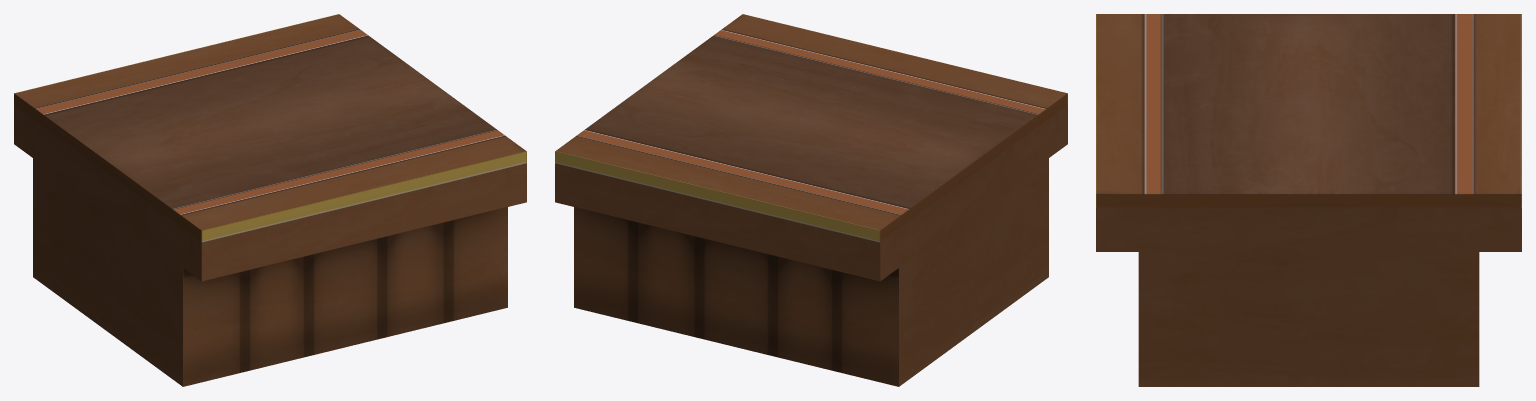
The model's file is Service Counter Table_HD.fbx.
The picture shows the model from 3 angles, left to right: view 1: azimuth 30°, elevation 25°; view 2: azimuth 150°, elevation 25°; view 3: azimuth 270°, elevation 25°; orthographic projection. The views are drawn at different scales.
Parts seen in each view (by area): view 1: Service_Counter_Table_center; view 2: Service_Counter_Table_center; view 3: Service_Counter_Table_center.
Part boxes in pixels (left/top/right/bottom): Service_Counter_Table_center: left=14, top=14, right=526, bottom=386; Service_Counter_Table_center: left=555, top=14, right=1067, bottom=386; Service_Counter_Table_center: left=1096, top=14, right=1521, bottom=386.
Bounding box in the file's own units: 1 × 0.5 × 1.
